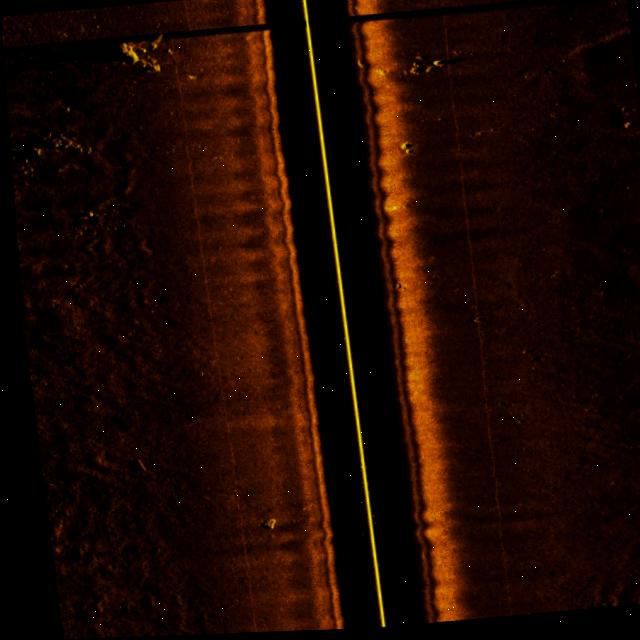mine: (116, 457, 140, 476)
